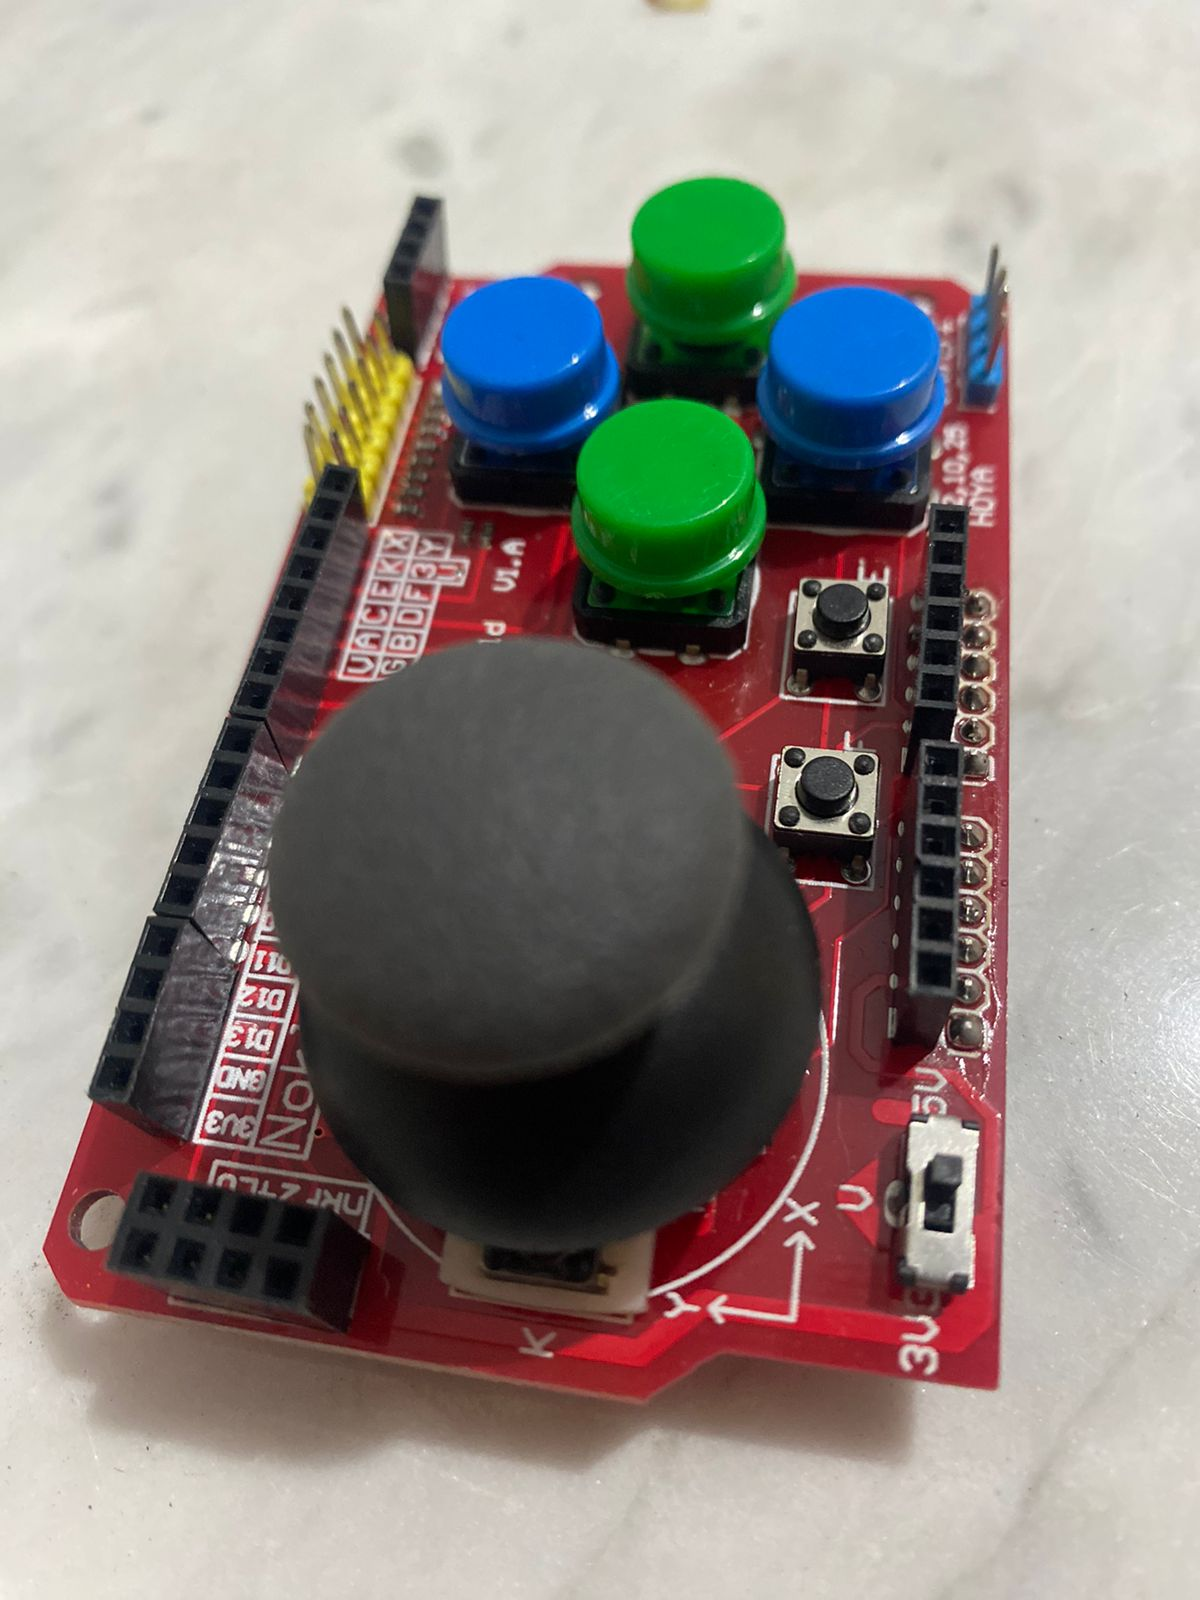Clavier-Joystick: (50, 163, 1061, 1419)
